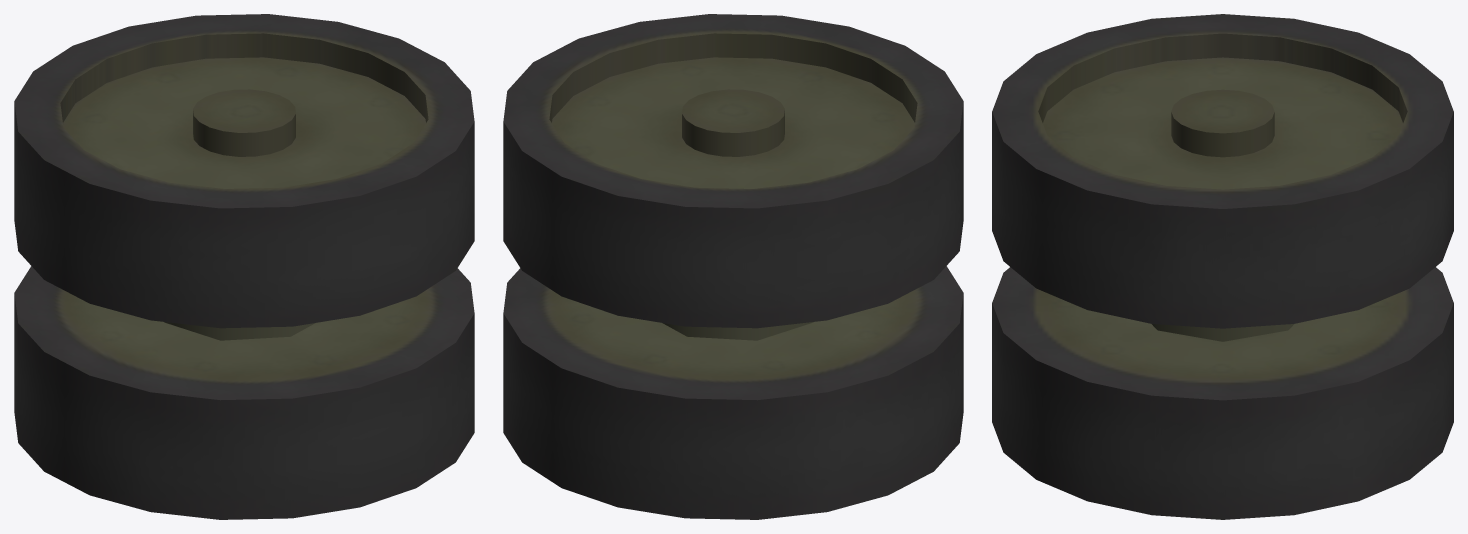
Rendered from T-35_SupportWheel.fbx.
3 views of the same model, side by side, from view 1: azimuth 30°, elevation 25°; view 2: azimuth 150°, elevation 25°; view 3: azimuth 270°, elevation 25° (orthographic).
Parts seen in each view (by area): view 1: T-35_SupportWheel; view 2: T-35_SupportWheel; view 3: T-35_SupportWheel.
Part boxes in pixels (x1,y1,x2,y2): T-35_SupportWheel: (14,14,474,519); T-35_SupportWheel: (503,14,963,519); T-35_SupportWheel: (992,14,1453,519).
Size of the model in its own units: 0.35 by 0.26 by 0.35.
